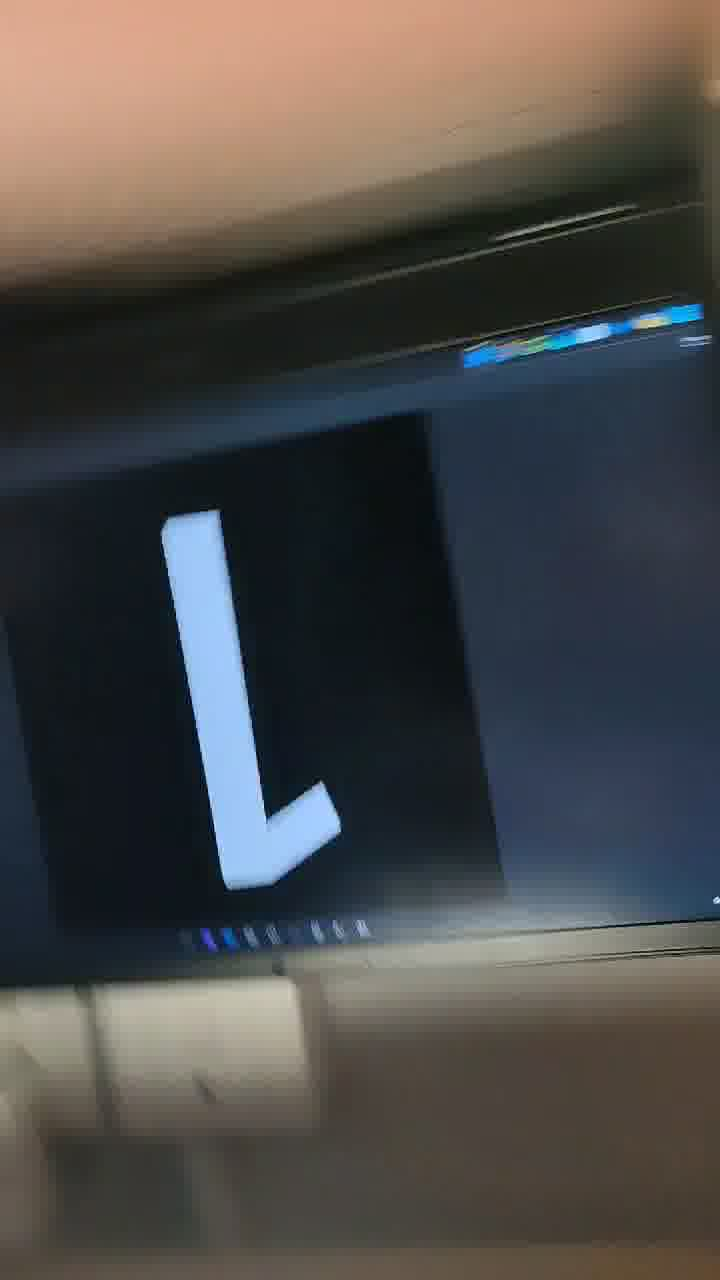one: (116, 488, 437, 926)
